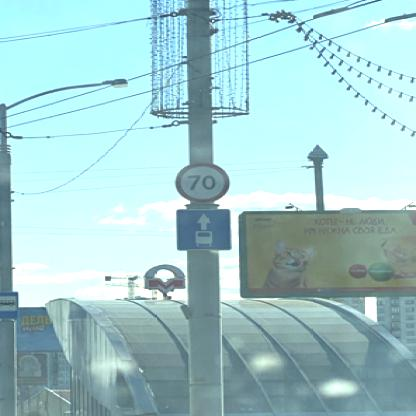speedlimit: (173, 162, 229, 202)
